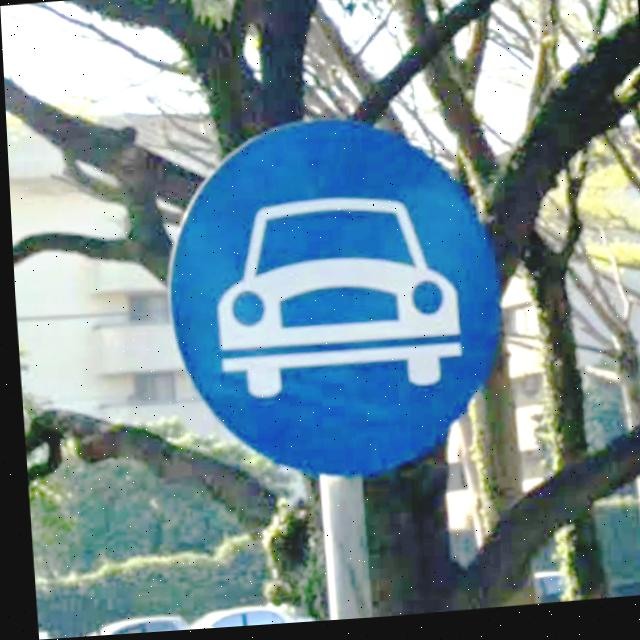car: (150, 108, 507, 494)
